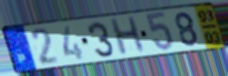2: (30, 27, 62, 67)
3: (87, 21, 116, 59)
4: (61, 24, 85, 61)
5: (143, 10, 175, 53)
8: (174, 10, 200, 48)
H: (107, 15, 147, 58)
